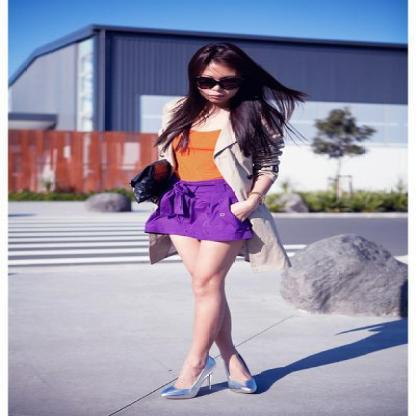bag: (126, 157, 179, 204)
shirt: (176, 129, 223, 181)
skirt: (145, 179, 254, 240)
sunglass: (212, 67, 239, 92)
